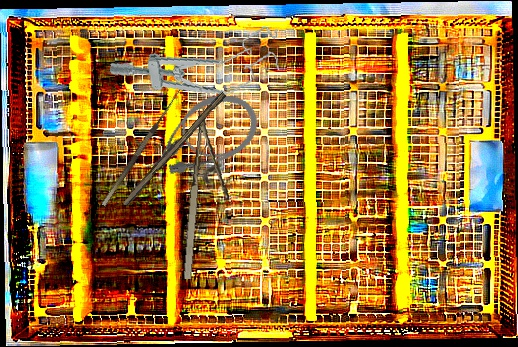Cannula: (131, 83, 268, 188)
Hook Surgical: (94, 82, 185, 207)
Needle Holder: (178, 107, 240, 283)
Scalpel Handle: (120, 88, 227, 209)
Speculum: (107, 23, 287, 113)
